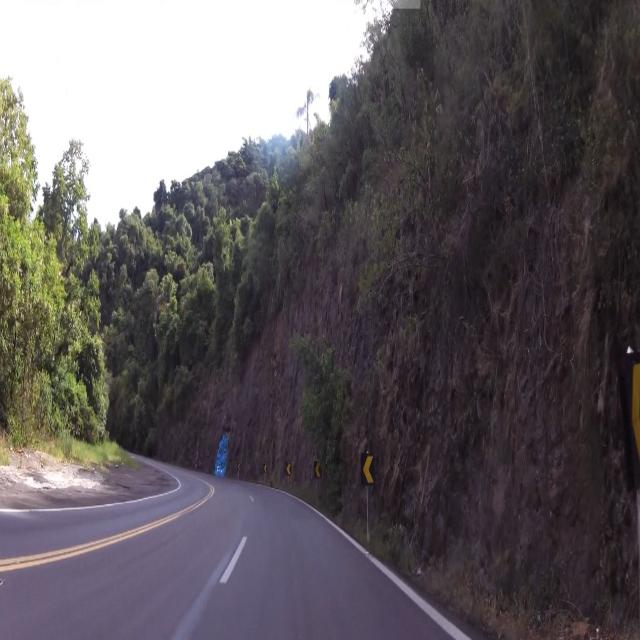Del: (616, 353, 640, 486), (362, 449, 376, 497), (313, 456, 322, 478)
